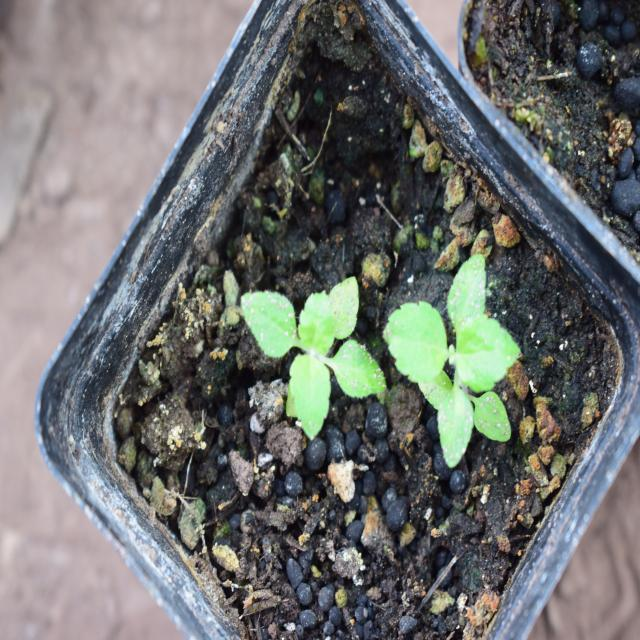billygoat_weed: (382, 252, 520, 481), (235, 268, 388, 433)
